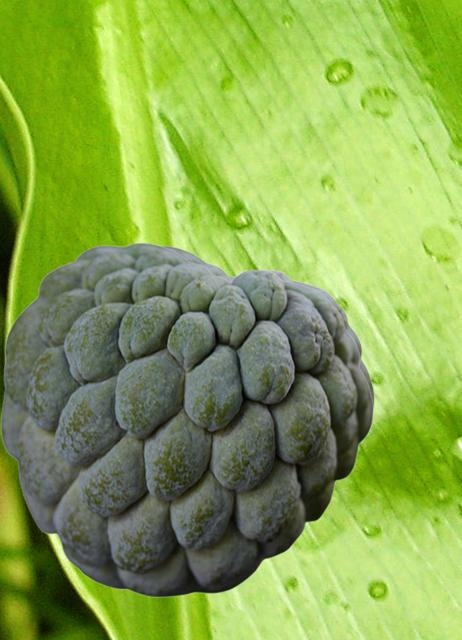atis: (0, 242, 372, 596), (162, 245, 373, 486)
